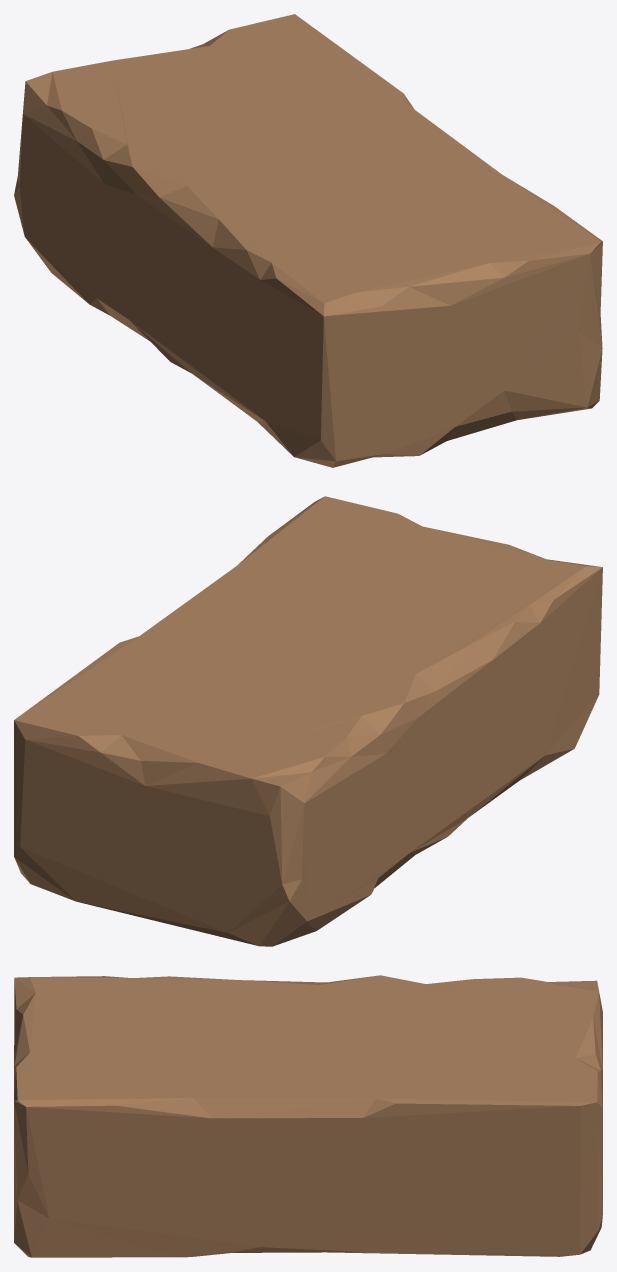
File: SM_large_brick_05.fbx
3 renders of one model, top to bottom at view 1: azimuth 30°, elevation 25°; view 2: azimuth 150°, elevation 25°; view 3: azimuth 270°, elevation 25°, orthographic. The views are drawn at different scales.
Visible parts, largest first — view 1: large_brick_05; view 2: large_brick_05; view 3: large_brick_05.
Part boxes in pixels (box(x1,y1,x2,y2)): large_brick_05: box(14, 14, 602, 467); large_brick_05: box(14, 496, 602, 946); large_brick_05: box(14, 975, 602, 1257).
Bounding box in the file's own units: 142 × 80.75 × 271.
